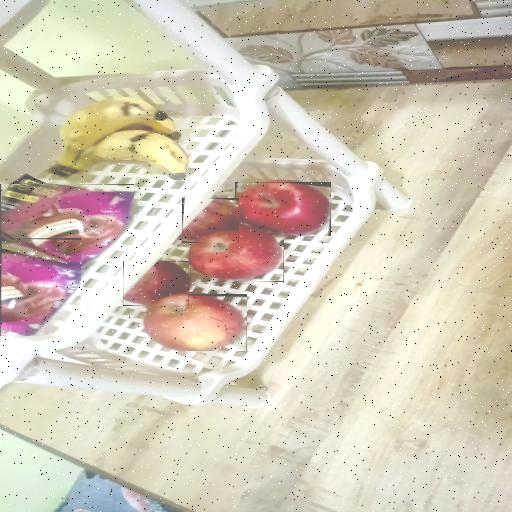Apple: (147, 294, 247, 351), (235, 182, 331, 236), (190, 230, 284, 284), (123, 262, 189, 308), (182, 198, 239, 243)
Choco Pie: (0, 184, 134, 266), (0, 238, 81, 336)
